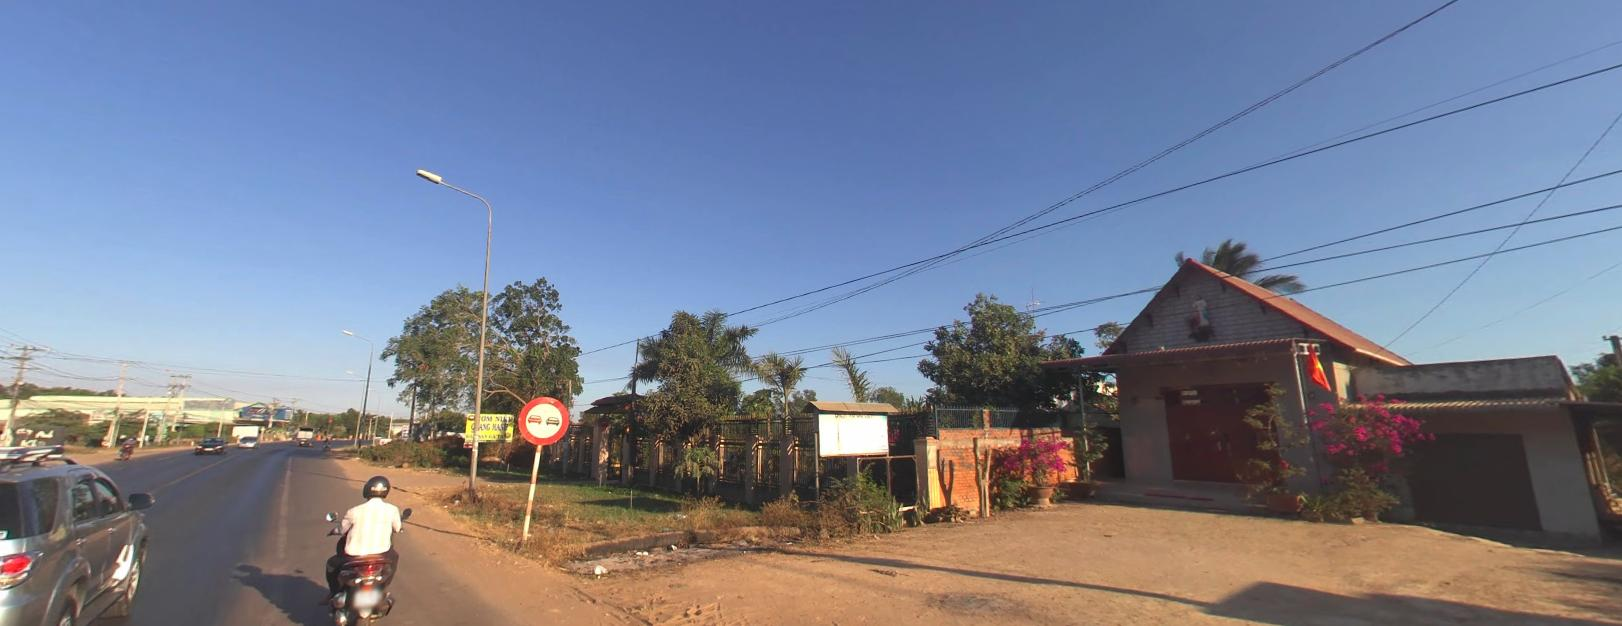Cam con lai: (517, 393, 570, 443), (519, 395, 569, 443)
